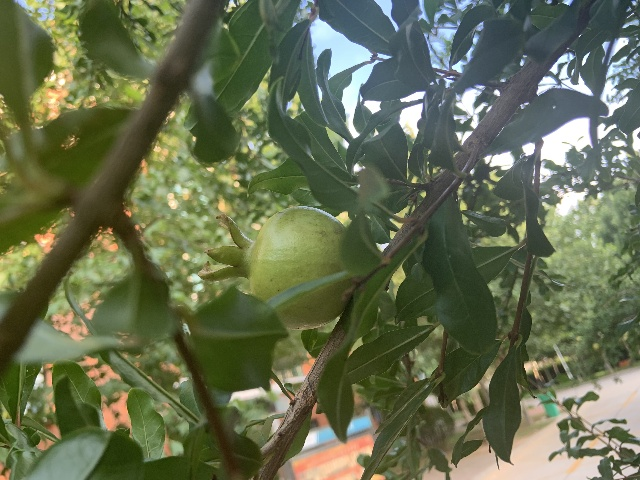mid-growth: (197, 206, 353, 330)
